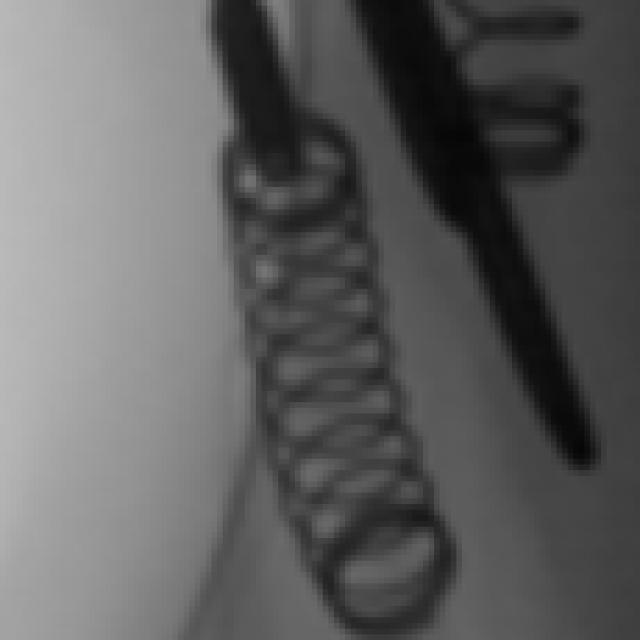GUN: (211, 1, 295, 182)
